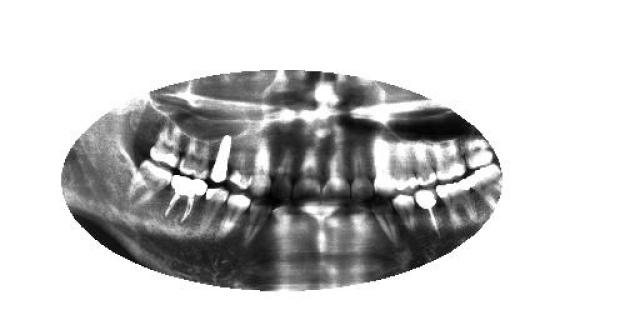Fillings: (150, 126, 179, 169)
Implant: (162, 176, 208, 225), (412, 188, 438, 238), (208, 131, 232, 184)
